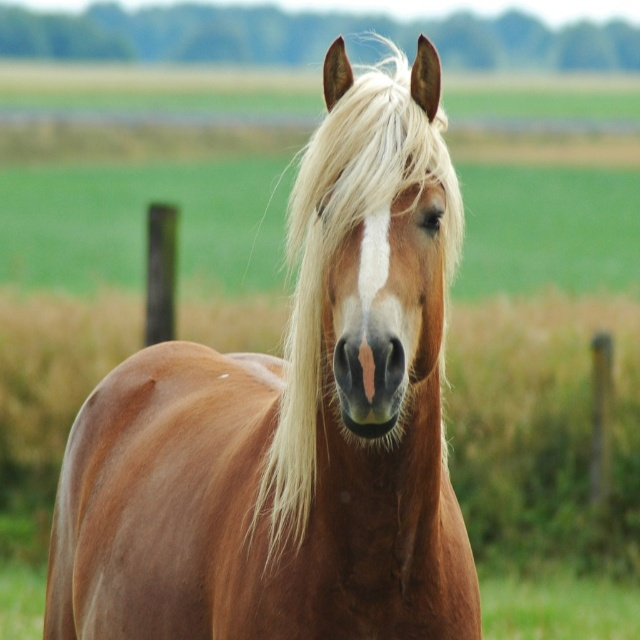Horse: (42, 28, 484, 640)
